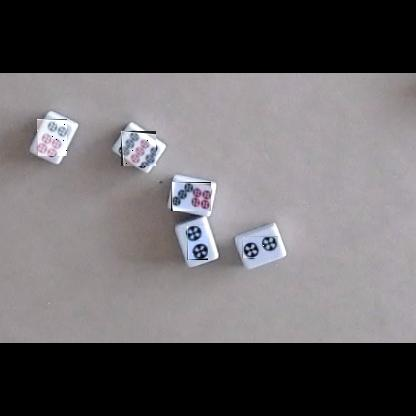2p: (242, 236, 278, 258), (187, 226, 208, 260)
6p: (37, 119, 67, 156)
7p: (171, 182, 211, 211)
9p: (121, 131, 156, 166)
